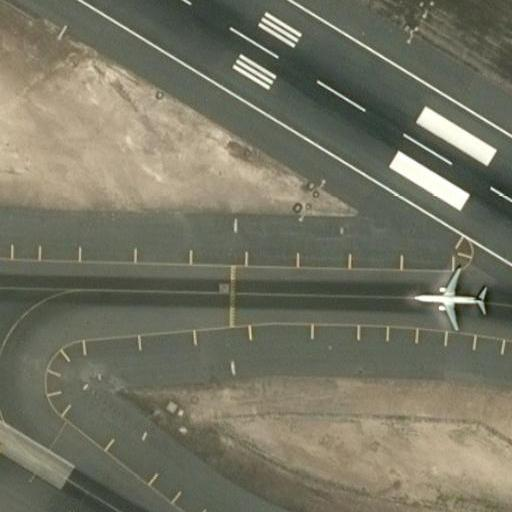Aircraft: (407, 259, 489, 334)
